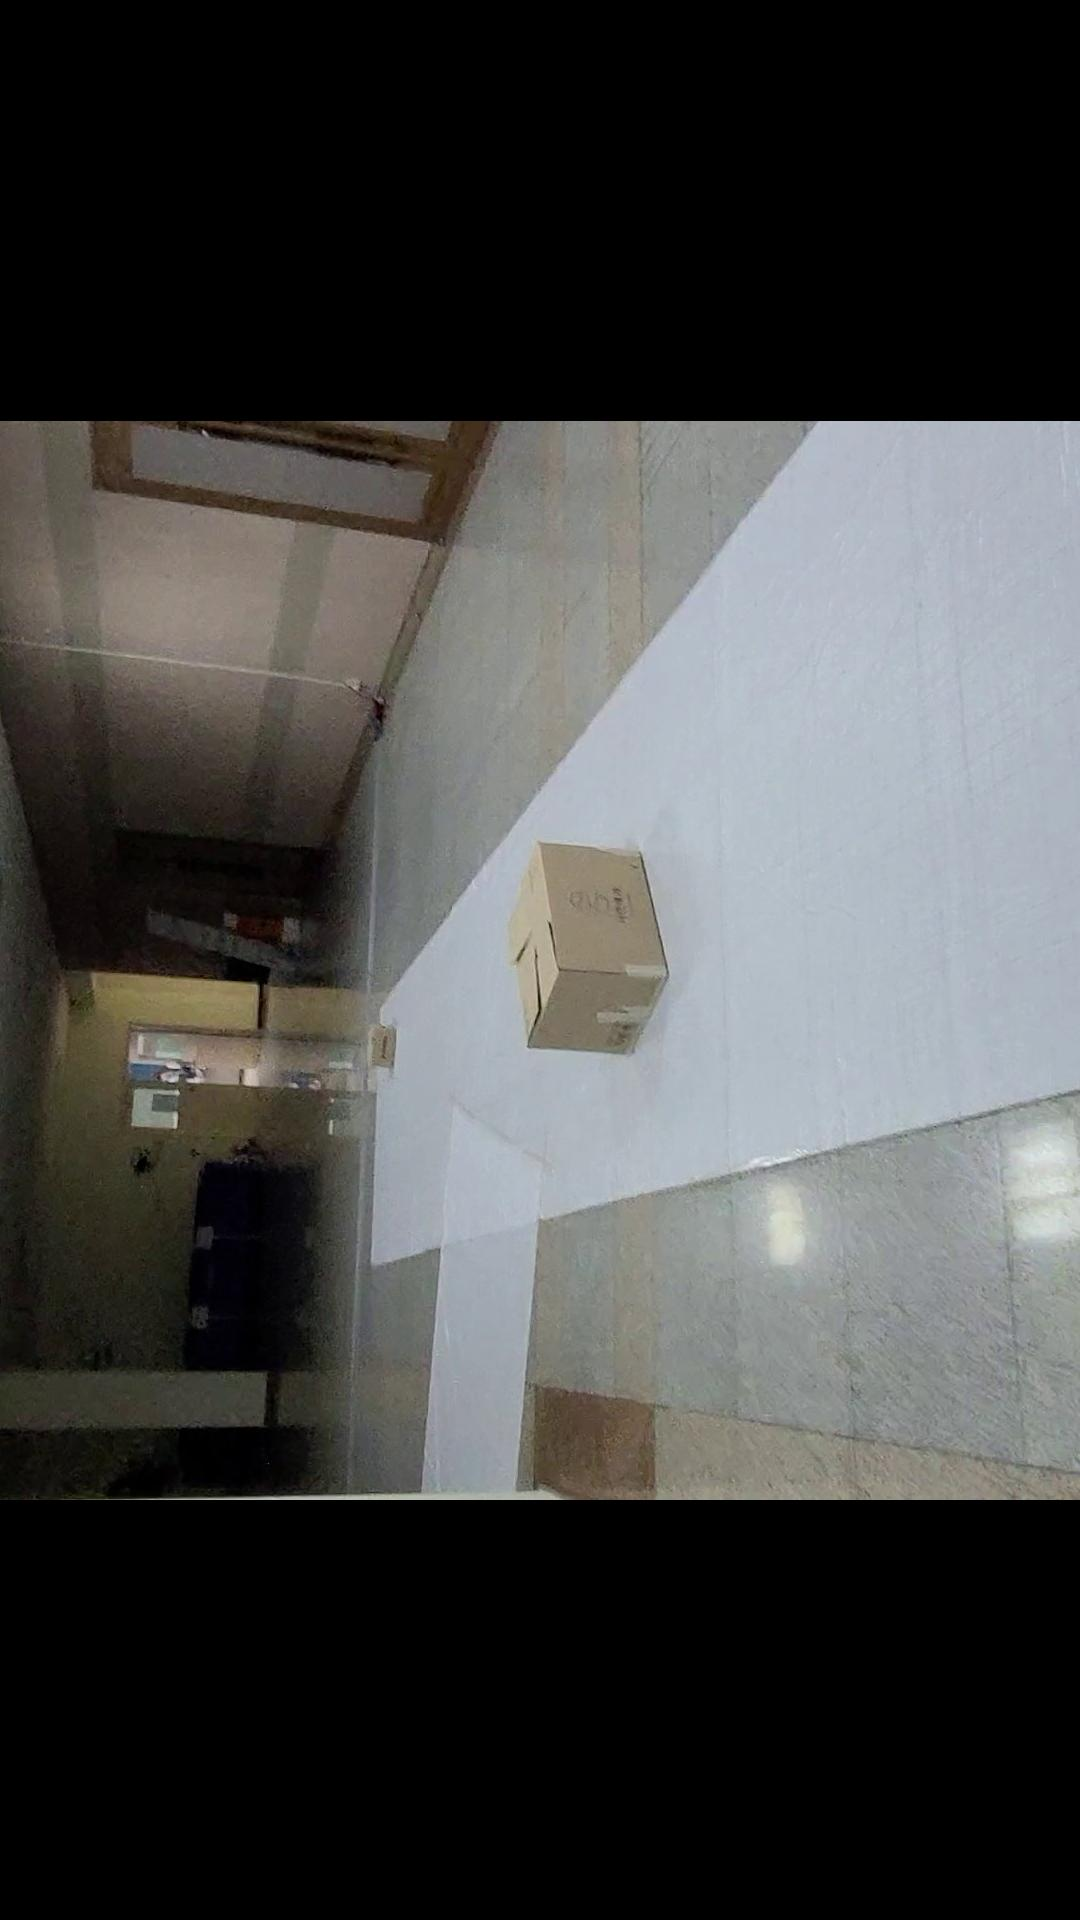Box: (488, 810, 695, 1079), (338, 1002, 415, 1095)
